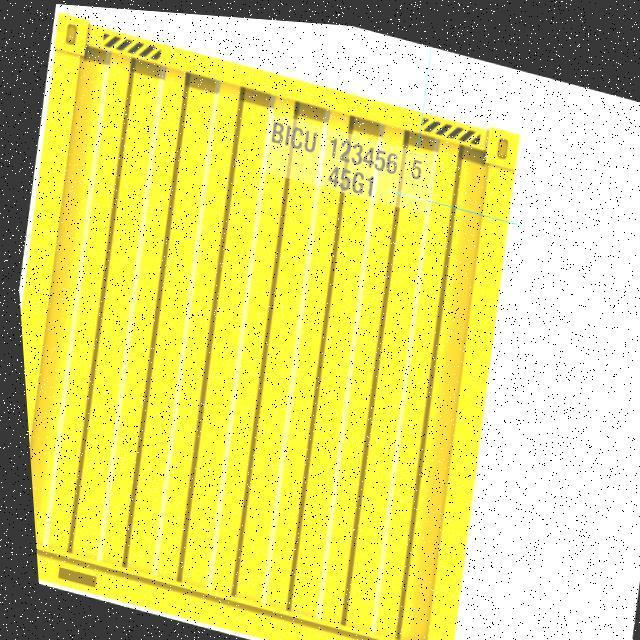container_number_h: (257, 108, 433, 209)
